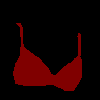reggiseno: (13, 22, 82, 91)
